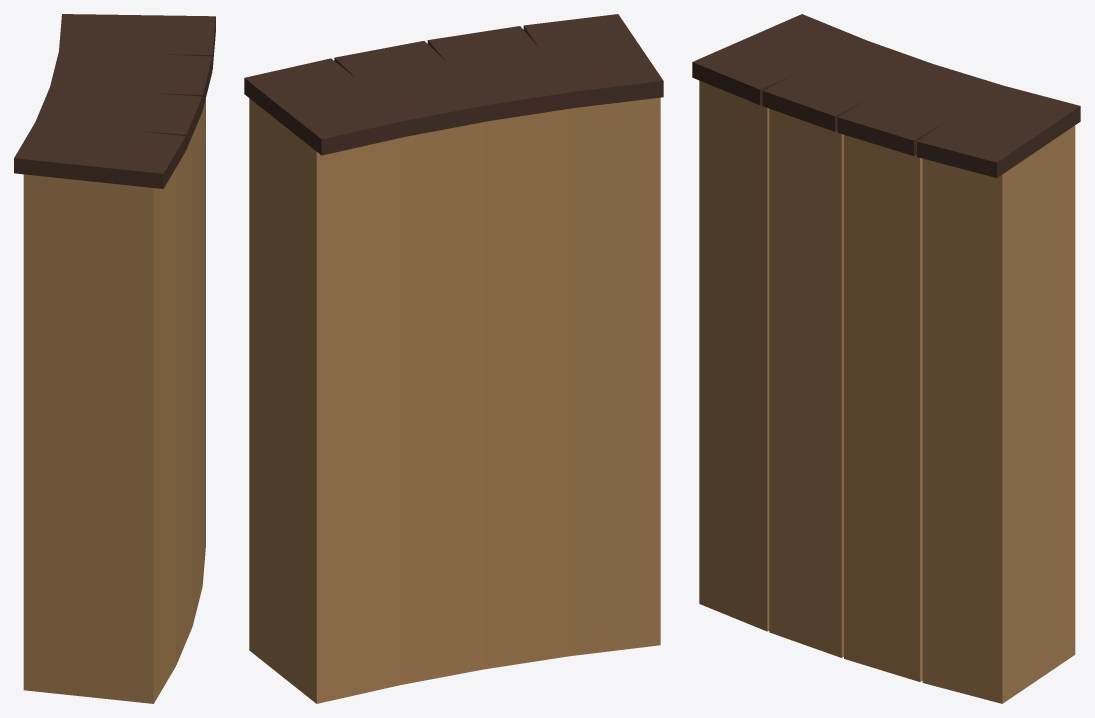
3 views of the same model, side by side, from view 1: azimuth 30°, elevation 25°; view 2: azimuth 150°, elevation 25°; view 3: azimuth 270°, elevation 25° (orthographic). The views are drawn at different scales.
Visible parts, largest first — view 1: expositor_curvo_s; view 2: expositor_curvo_s; view 3: expositor_curvo_s.
Part boxes in pixels (left/top/right/bottom): expositor_curvo_s: left=14, top=14, right=215, bottom=703; expositor_curvo_s: left=244, top=14, right=663, bottom=703; expositor_curvo_s: left=692, top=14, right=1080, bottom=703.
Bounding box in the file's own units: 1.02 × 1.13 × 1.75.
